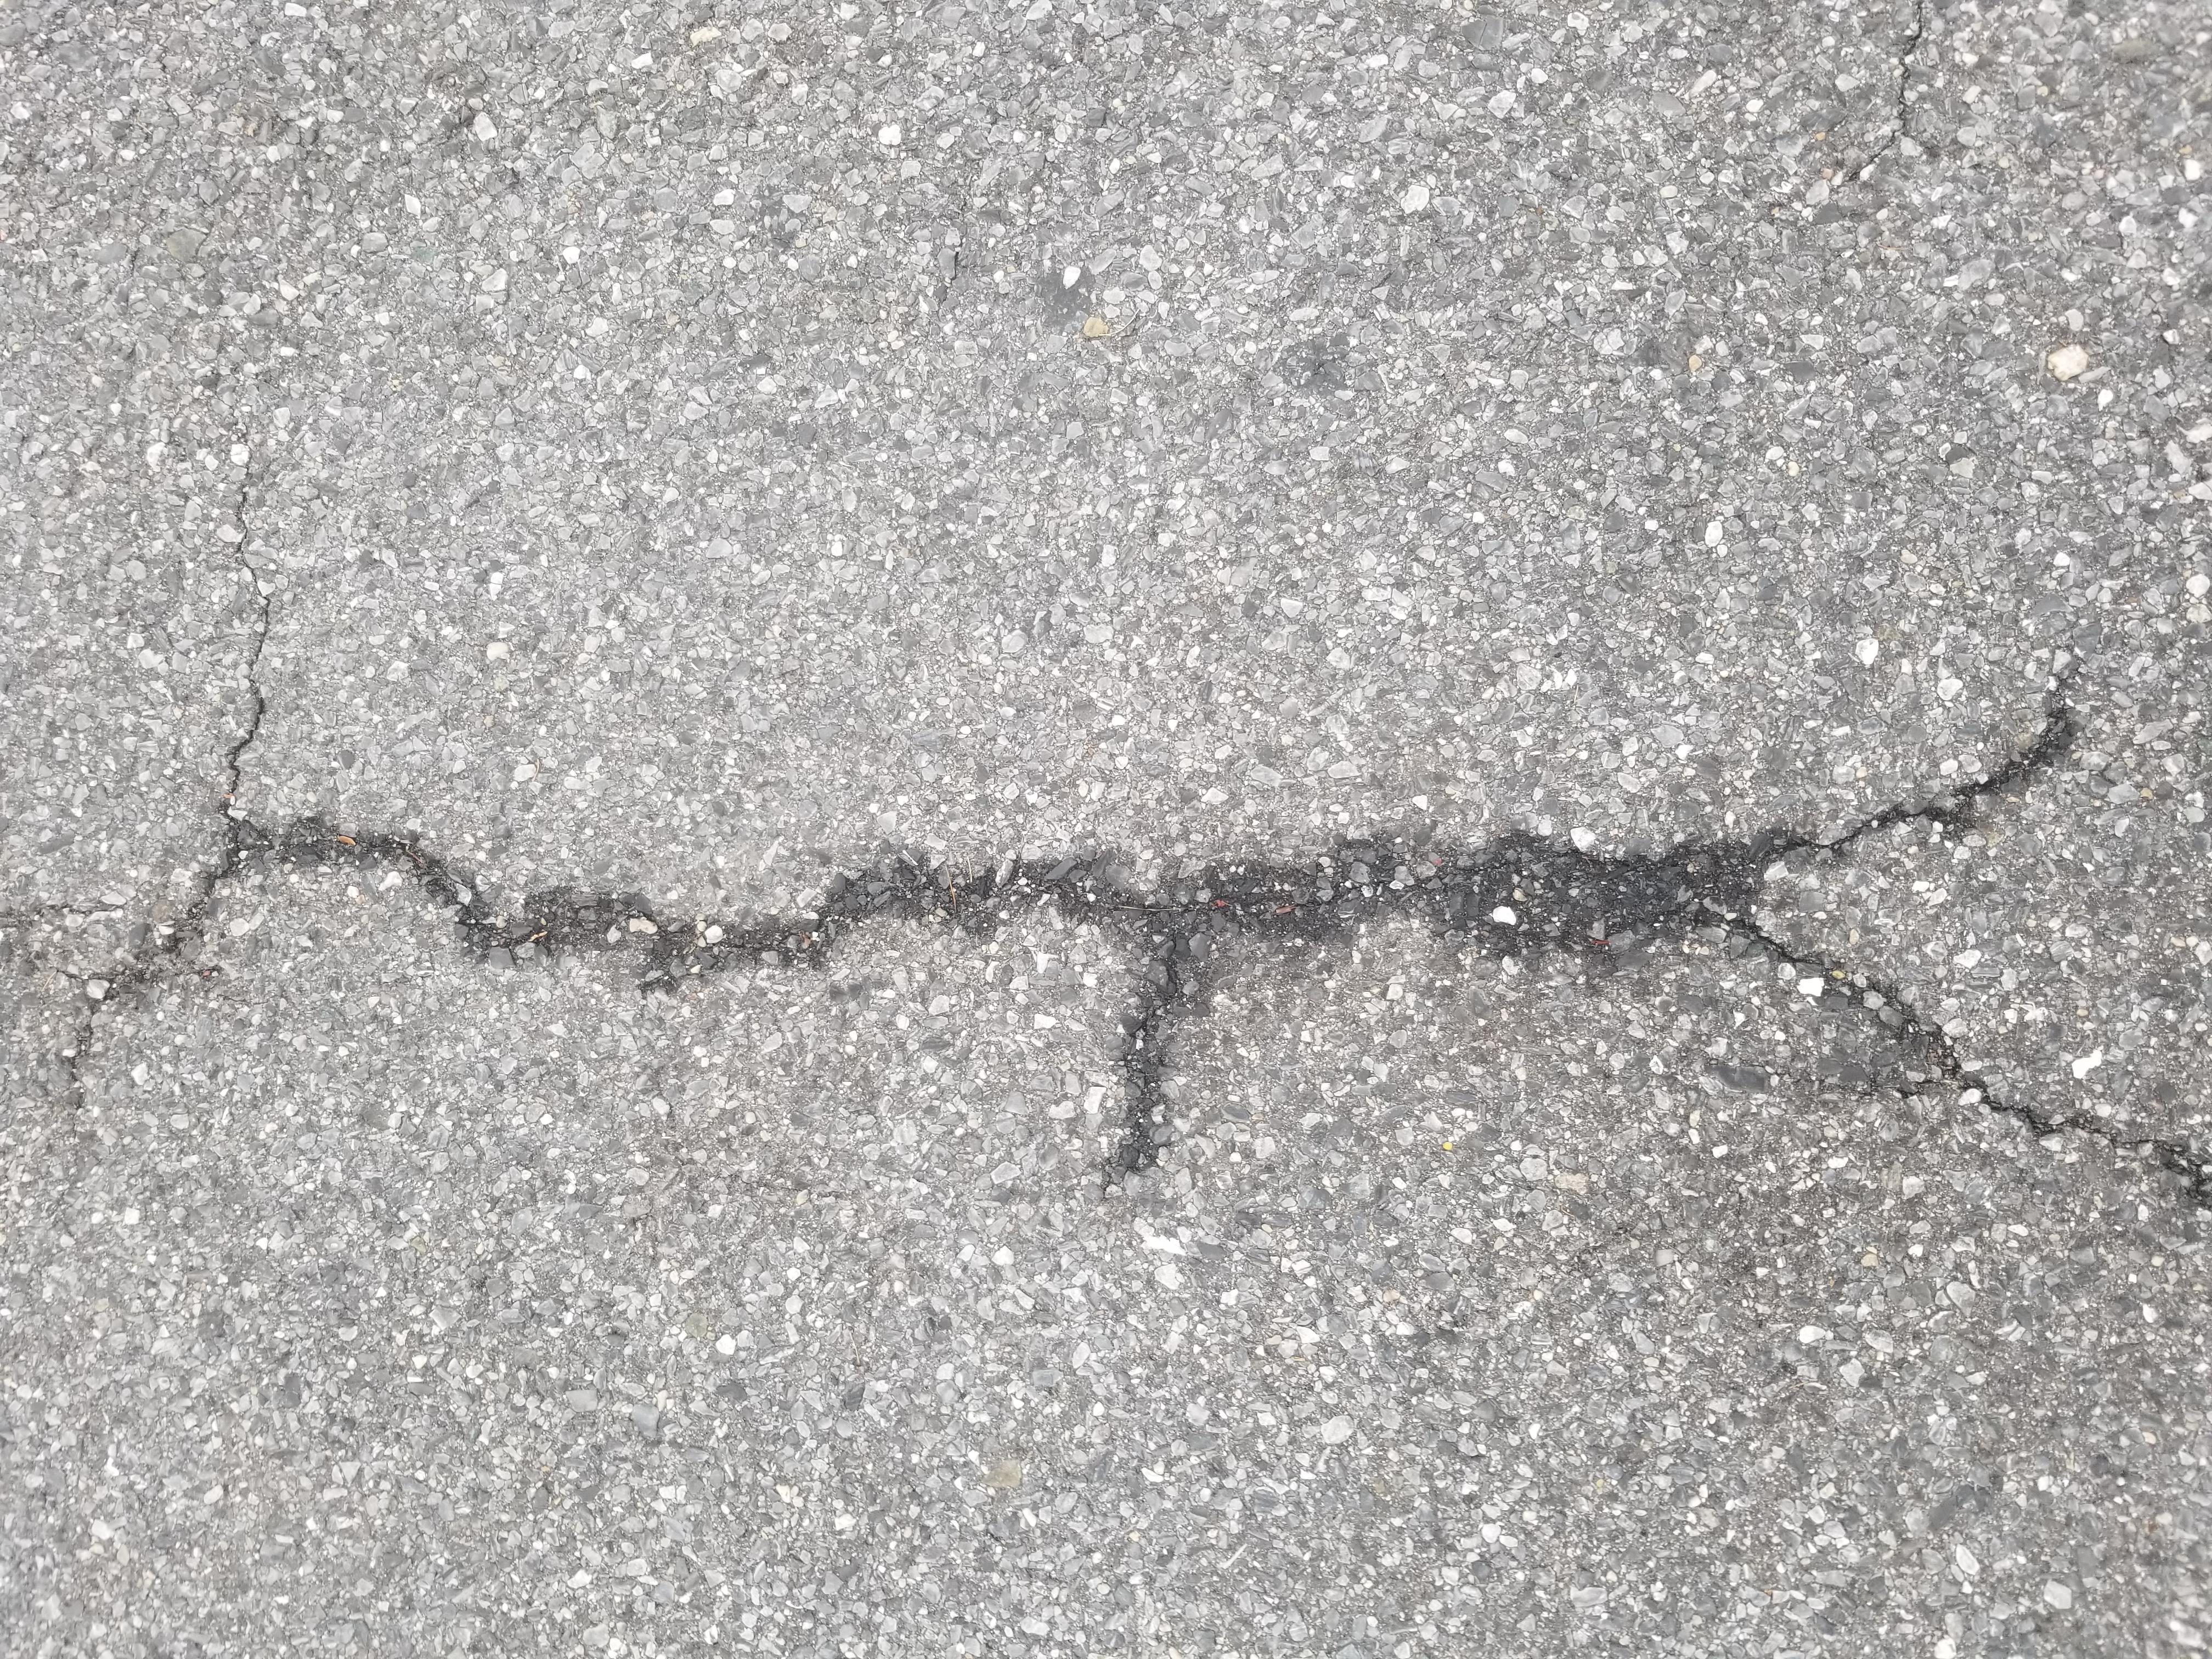crack: (571, 33, 1426, 1640)
